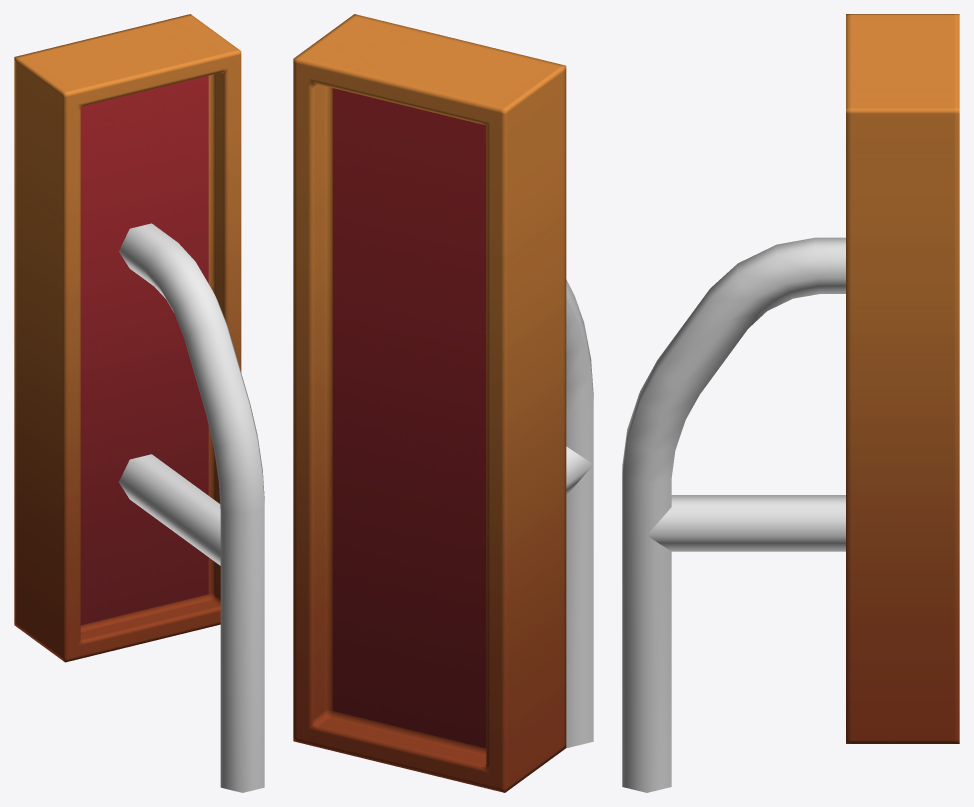
Rendered from SM_order_no_1.fbx.
The picture shows the model from 3 angles, left to right: view 1: azimuth 30°, elevation 25°; view 2: azimuth 150°, elevation 25°; view 3: azimuth 270°, elevation 25°; orthographic projection. The views are drawn at different scales.
Parts seen in each view (by area): view 1: SM_order_no_1, Plane.005; view 2: SM_order_no_1, Plane.005; view 3: SM_order_no_1, Plane.005.
Boxes of the visible parts, bbox=[...] form: SM_order_no_1: bbox=[14, 14, 241, 662]; Plane.005: bbox=[119, 223, 264, 792]; SM_order_no_1: bbox=[293, 14, 566, 792]; Plane.005: bbox=[566, 279, 593, 747]; SM_order_no_1: bbox=[846, 14, 959, 743]; Plane.005: bbox=[622, 237, 845, 792].
Bounding box in the file's own units: 39.97 × 140 × 59.33.
